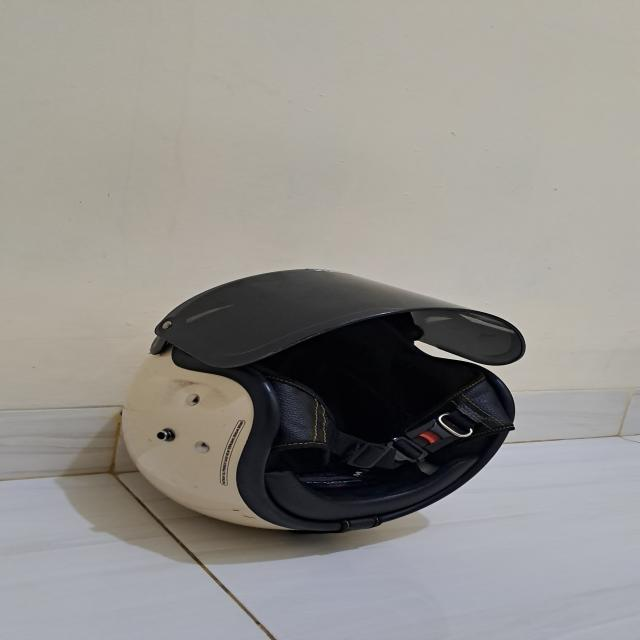Helm: (90, 254, 536, 532)
